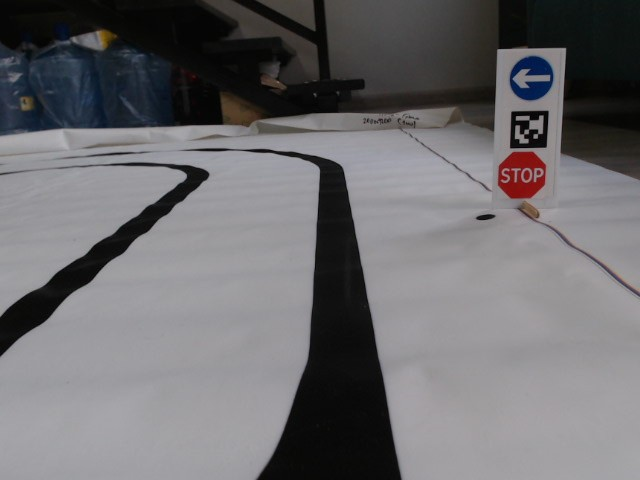Stop: (496, 150, 548, 202)
